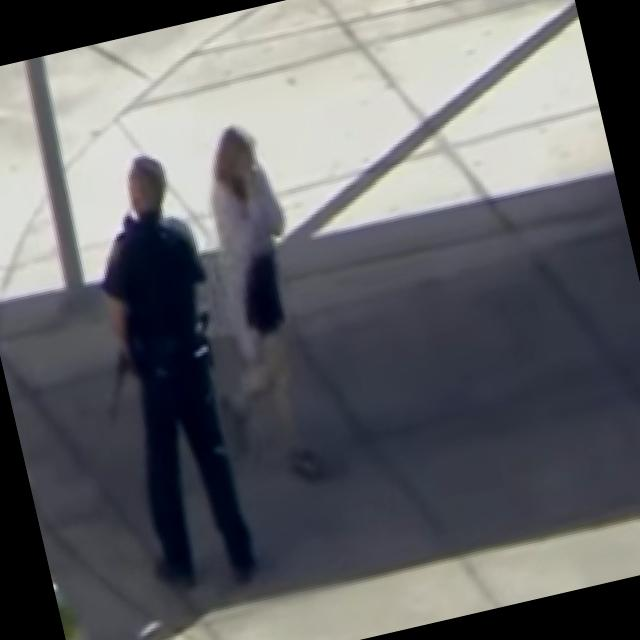person: (60, 145, 275, 598), (159, 120, 345, 498)
